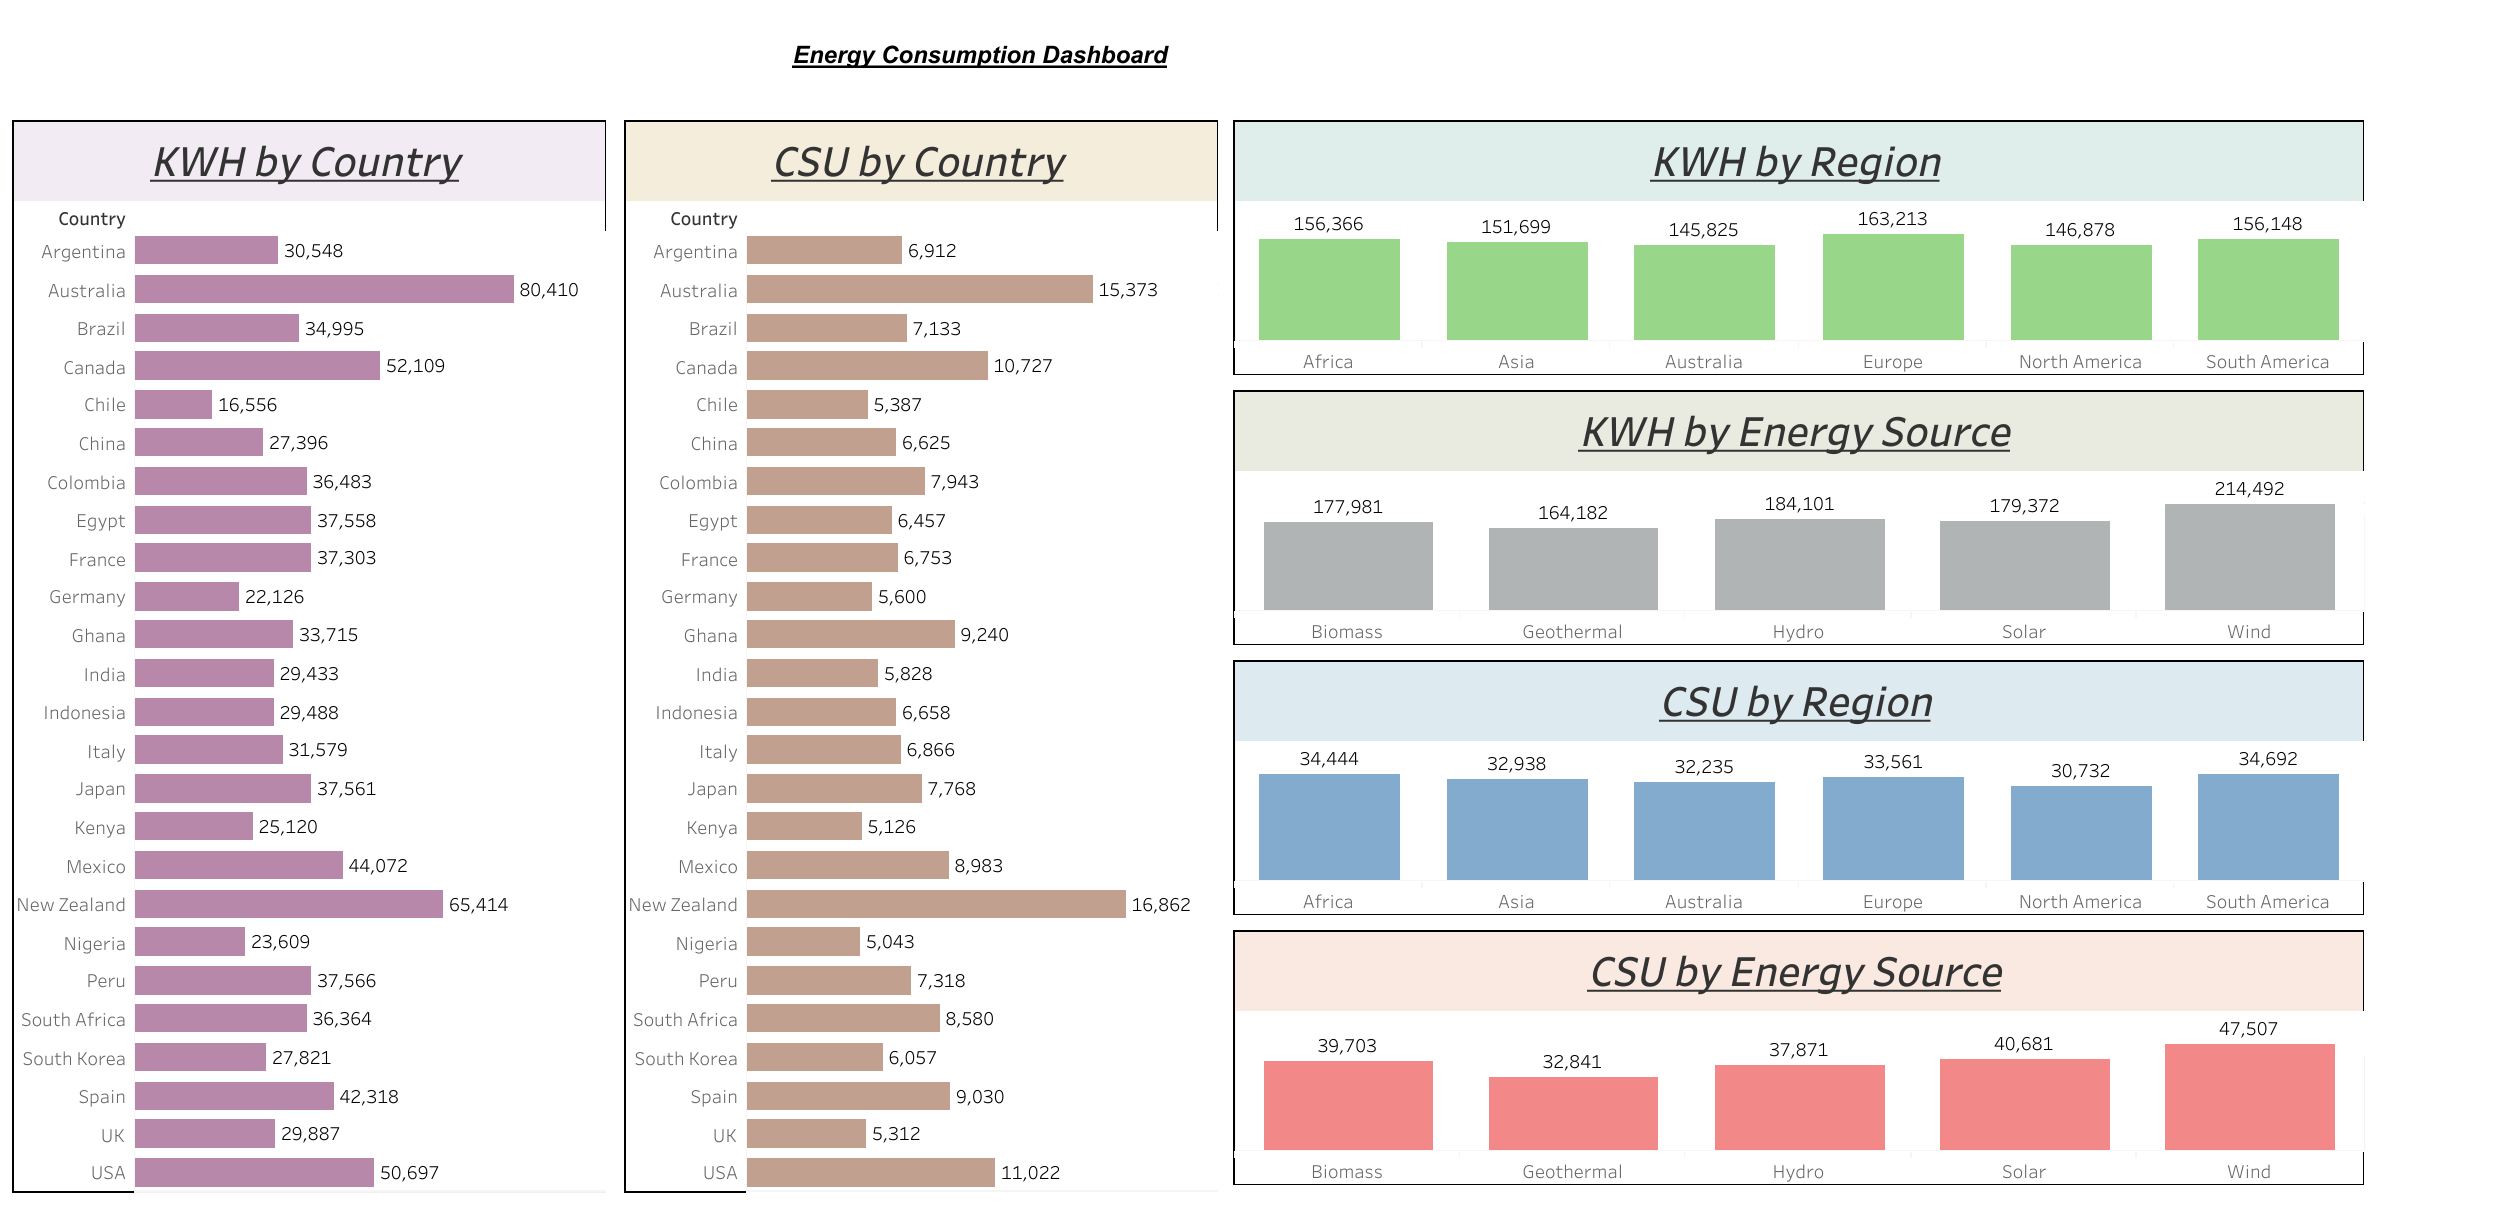

Layout of this report page (visuals, bound fields, positions):
{"tool":"tableau","page":{"name":"Dashboard 1","canvas":[1680,806],"ordinal":0},"visuals":[{"type":"text","box":[425.2,17,457.7,39]},{"type":"worksheet","title":"KWH by Country","mark":"Automatic","rows":["COUNTRY"],"cols":["MONTHLY_USAGE_KWH"],"box":[8.4,80,395.9,715]},{"type":"worksheet","title":"CSU by Country","mark":"Automatic","rows":["COUNTRY"],"cols":["COST_SAVINGS_USD"],"box":[415.8,80,395.9,715]},{"type":"worksheet","title":"KWH by Region ","mark":"Automatic","rows":["MONTHLY_USAGE_KWH"],"cols":["REGION"],"box":[822.2,80,754.1,170]},{"type":"worksheet","title":"KWH by Energy Source","mark":"Automatic","rows":["MONTHLY_USAGE_KWH"],"cols":["ENERGY_SOURCE"],"box":[822.2,260,754.1,170]},{"type":"worksheet","title":"CSU by Region","mark":"Automatic","rows":["COST_SAVINGS_USD"],"cols":["REGION"],"box":[822.2,440,754.1,170]},{"type":"worksheet","title":"CSU by Energy Source","mark":"Automatic","rows":["COST_SAVINGS_USD"],"cols":["ENERGY_SOURCE"],"box":[822.2,620,754.1,170]}]}

Visuals, with their boxes in screenshot pixels (x1, y1, x2, y2), scaled from the page's 1680x806 canvas onto the 2520x1209 screenshot:
text: [638,26,1324,84]
"KWH by Country" worksheet: [13,120,606,1192]
"CSU by Country" worksheet: [624,120,1218,1192]
"KWH by Region " worksheet: [1233,120,2364,375]
"KWH by Energy Source" worksheet: [1233,390,2364,645]
"CSU by Region" worksheet: [1233,660,2364,915]
"CSU by Energy Source" worksheet: [1233,930,2364,1185]
